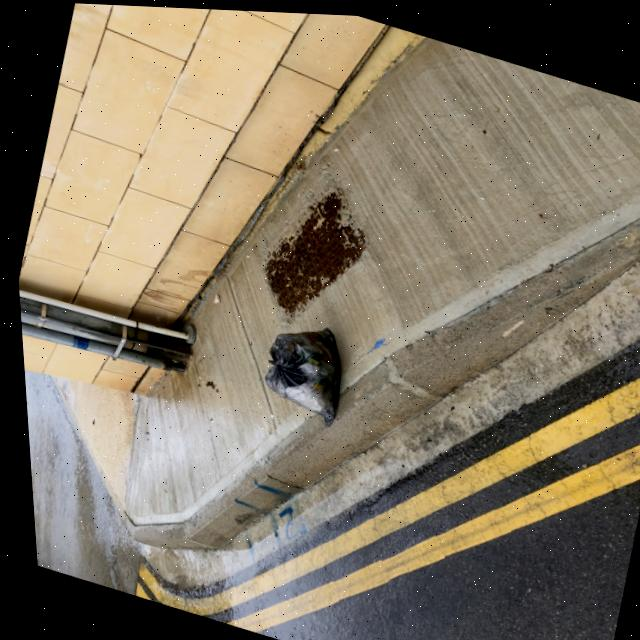Mixed Waste -Black Bag-: (251, 316, 353, 423)
